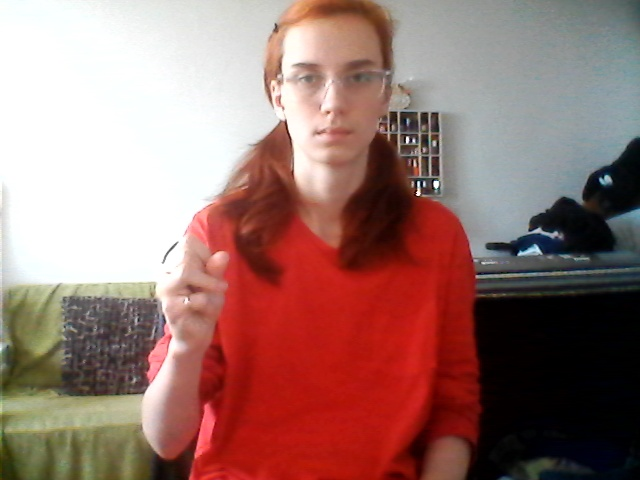r: (146, 229, 250, 348)
